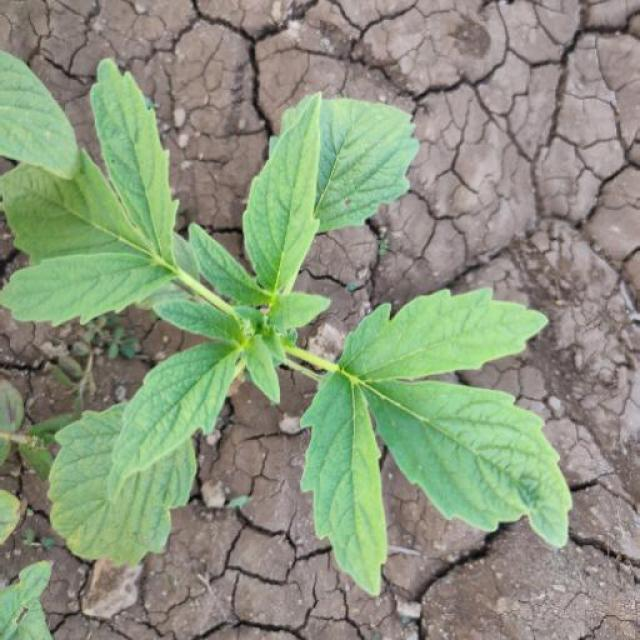crop: (13, 86, 585, 605)
